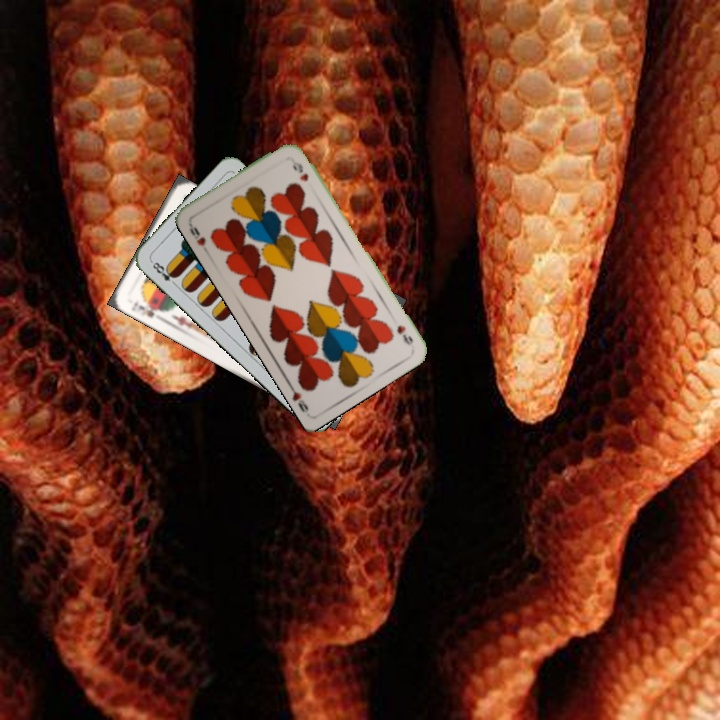E8: (147, 257, 180, 289)
H9: (185, 219, 208, 249), (393, 321, 415, 348)
SK: (127, 296, 166, 321)
